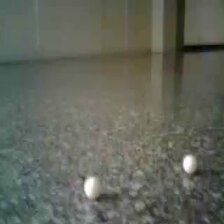w: (84, 178, 102, 198), (184, 155, 197, 174)
